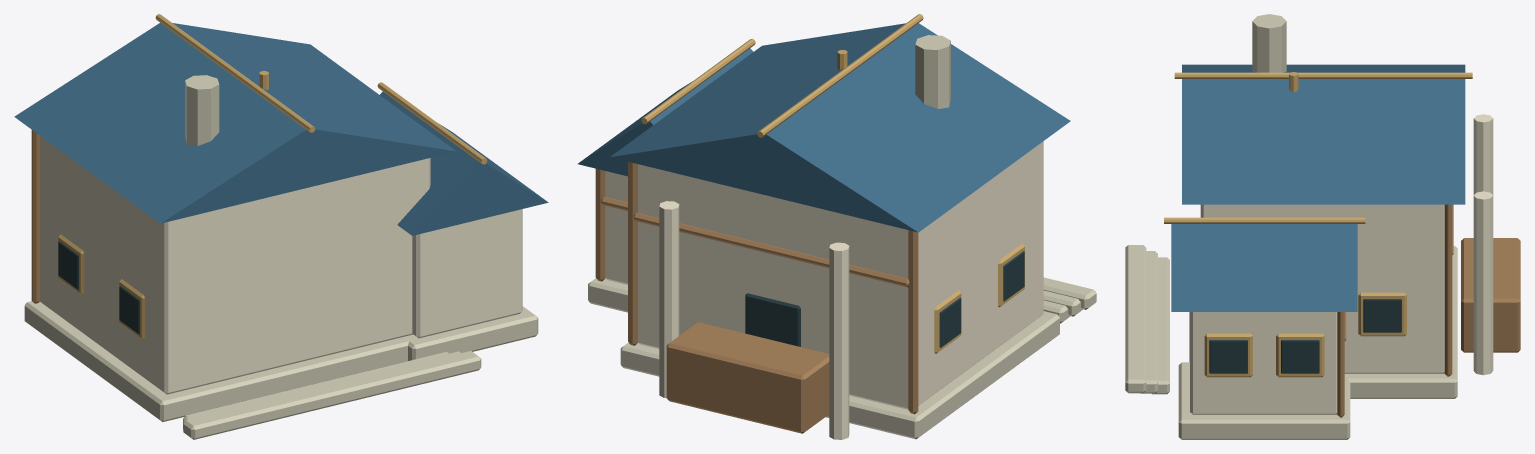
File: level_23.glb
3 renders of one model, left to right at view 1: azimuth 30°, elevation 25°; view 2: azimuth 150°, elevation 25°; view 3: azimuth 270°, elevation 25°, orthographic. The views are drawn at different scales.
Visible parts, largest first — view 1: workshop — level 23; view 2: workshop — level 23; view 3: workshop — level 23.
Boxes of the visible parts, bbox=[...] form: workshop — level 23: bbox=[14, 14, 548, 439]; workshop — level 23: bbox=[578, 14, 1096, 439]; workshop — level 23: bbox=[1125, 14, 1520, 439].
Size of the model in its own units: 5.75 by 4.18 by 5.3.
